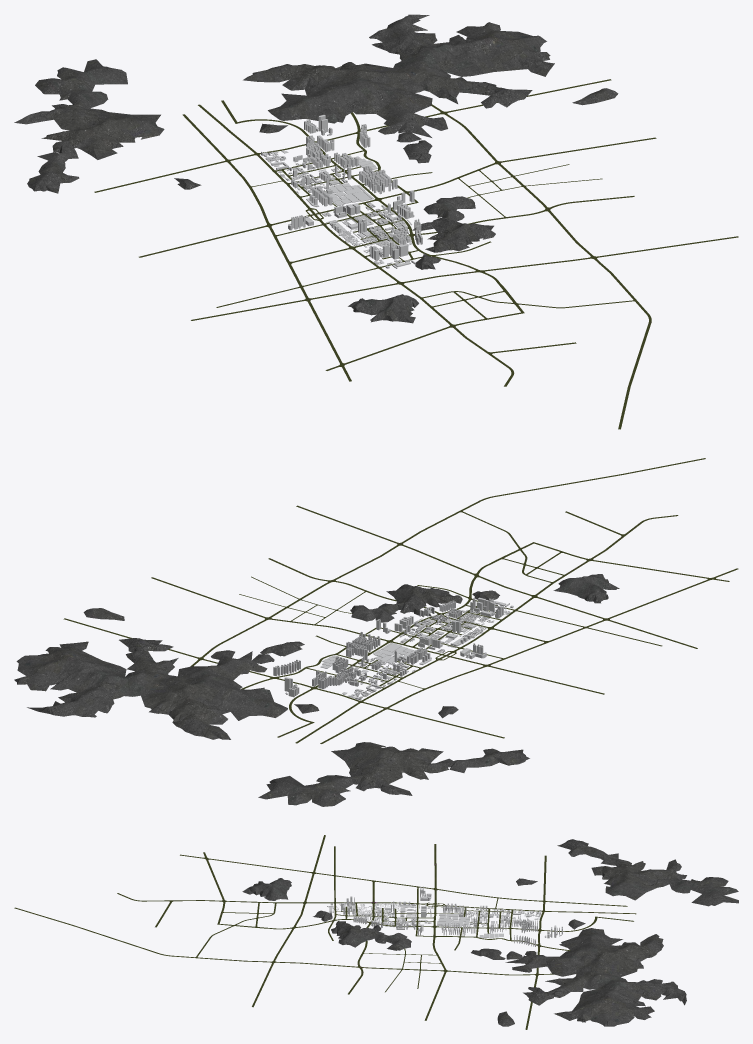
The picture shows the model from 3 angles, top to bottom: view 1: azimuth 30°, elevation 25°; view 2: azimuth 150°, elevation 25°; view 3: azimuth 270°, elevation 25°; orthographic projection. The views are drawn at different scales.
Parts seen in each view (by area): view 1: shan, dx, jz1, jz2, jz3; view 2: shan, dx, jz1, jz2, jz3; view 3: shan, dx, jz1, jz2, jz3.
Boxes of the visible parts, bbox=[...] form: shan: bbox=[14, 14, 618, 323]; dx: bbox=[94, 79, 738, 429]; jz1: bbox=[261, 124, 397, 206]; jz2: bbox=[322, 199, 422, 268]; jz3: bbox=[288, 115, 414, 260]; shan: bbox=[14, 574, 619, 806]; dx: bbox=[63, 458, 738, 743]; jz1: bbox=[273, 631, 431, 700]; jz2: bbox=[394, 598, 513, 659]; jz3: bbox=[284, 597, 503, 697]; shan: bbox=[242, 839, 738, 1026]; dx: bbox=[14, 835, 636, 1029]; jz1: bbox=[436, 903, 541, 946]; jz2: bbox=[327, 893, 433, 929]; jz3: bbox=[341, 886, 562, 938].
Bounding box in the file's own units: 1146155 × 29675 × 1803040.
Materials: 5 (2 with a texture image).
